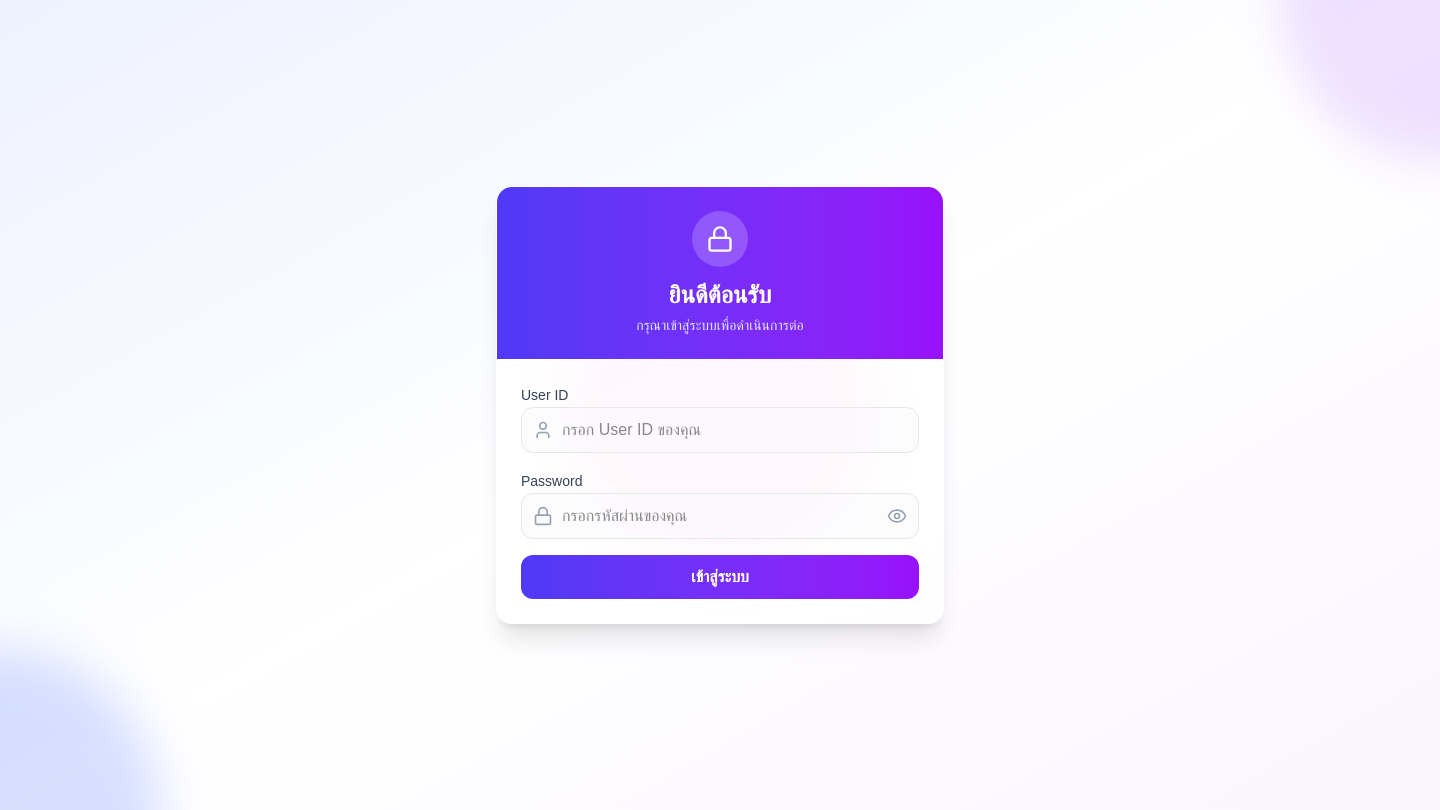
Test case: Login Component › 2. should show an error message for an empty User ID on submit
Click the button "เข้าสู่ระบบ". click: (720, 577)
box: [521,555,919,599]
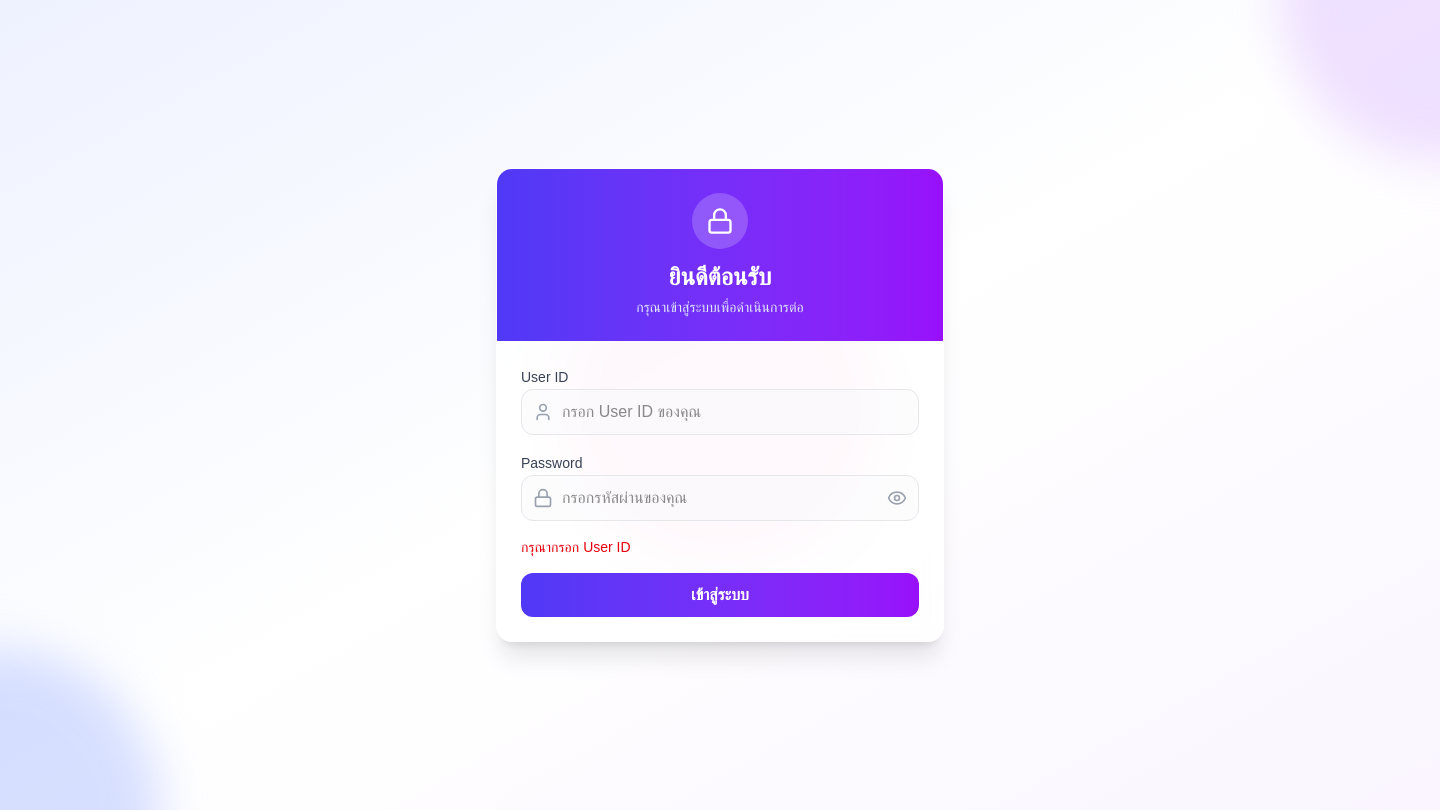
expect the text "กรุณากรอก User ID" is shown: met, box [521,539,631,555]
